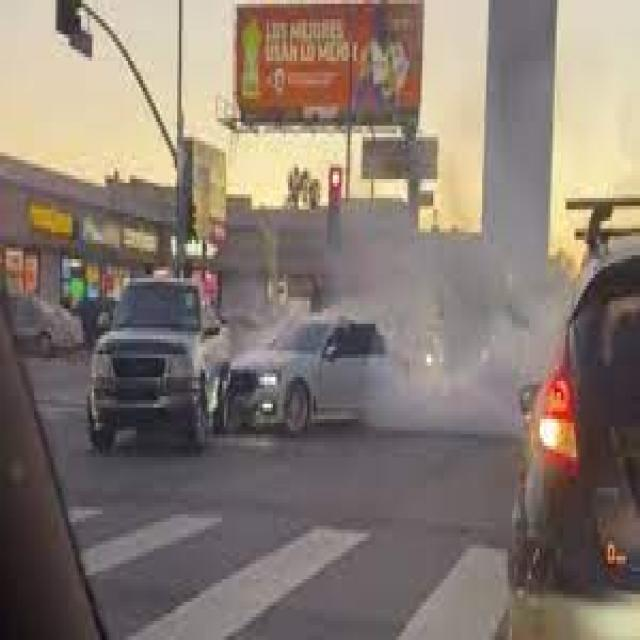accident: (81, 244, 427, 476)
